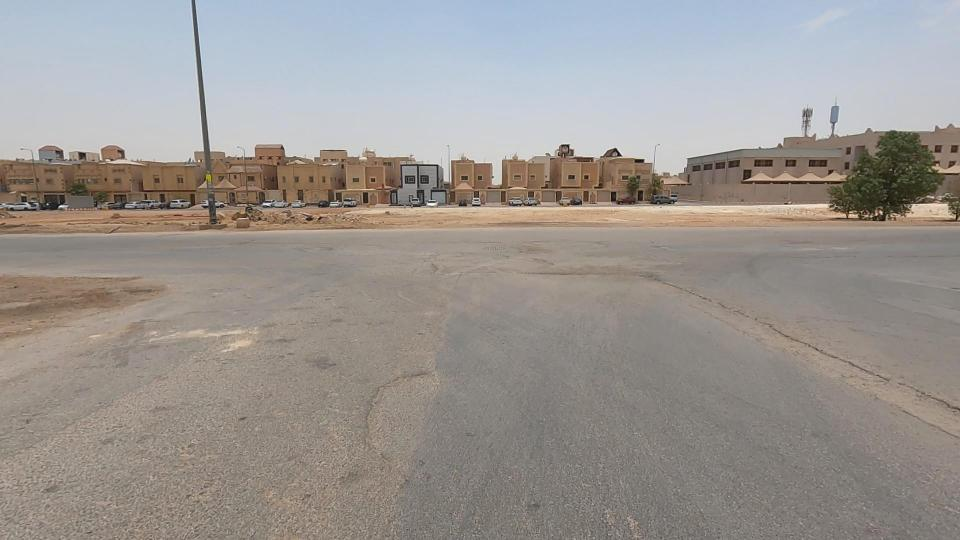POTHOLES: (270, 300, 562, 496), (732, 287, 960, 450), (661, 260, 792, 366)
